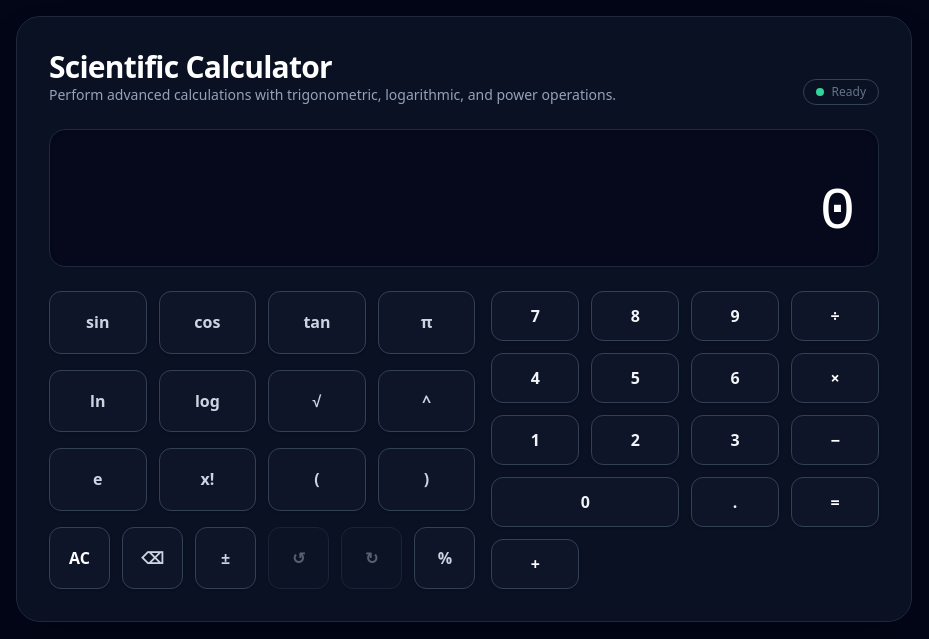
Scenario: Calculator E2E › supports undo and redo of evaluated expressions
Click the button "1". click: (535, 440)
box: [491,415,579,465]
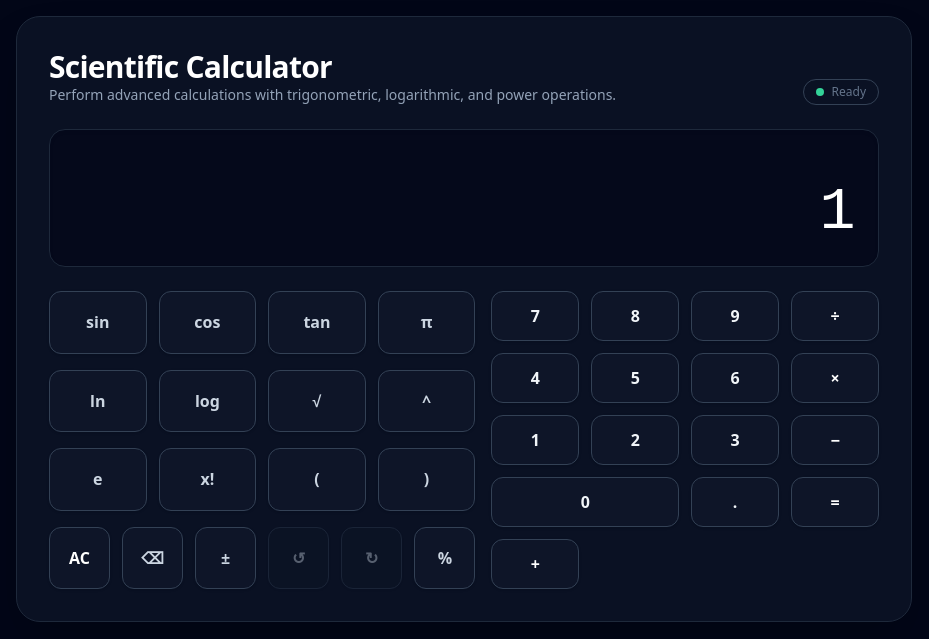
Click the button "+". click: (535, 564)
box: [491,539,579,589]
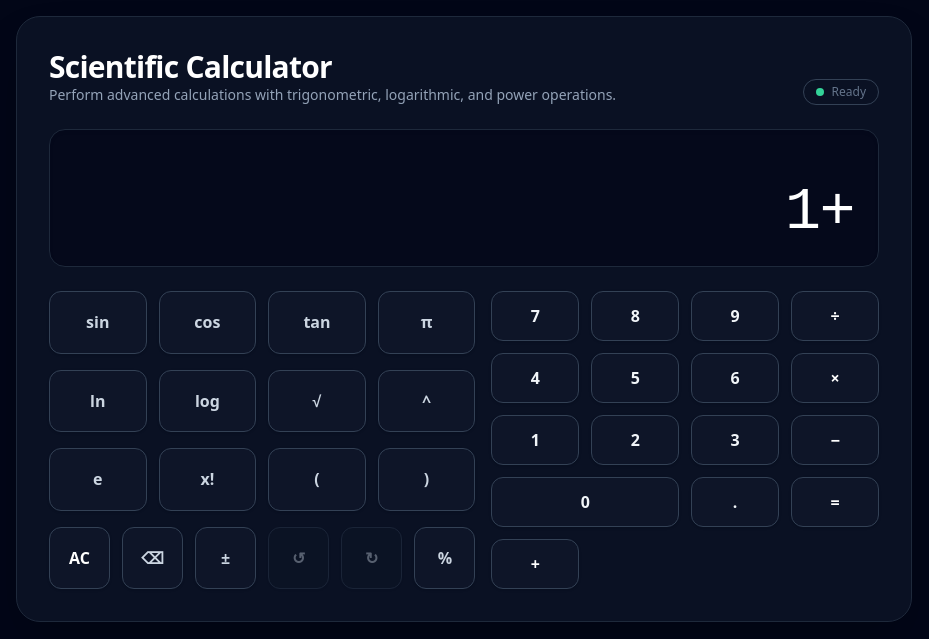
Click the button "2". click: (635, 440)
box: [591,415,679,465]
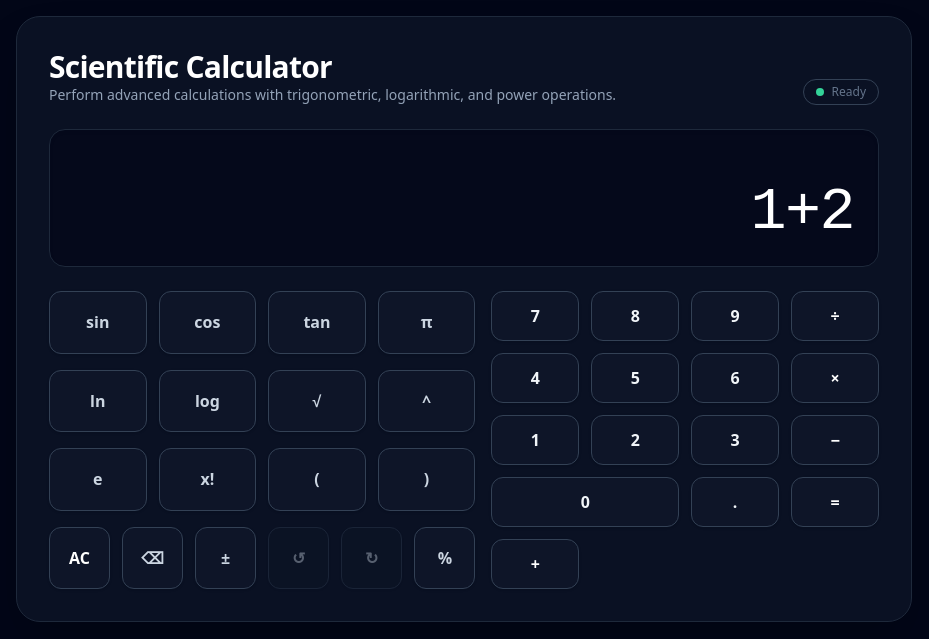
Expected: the button "↺" is disabled, [268,527,329,590]
Now the text "1+2" is shown, box [750,178,854,246]
Click the button "=". click: (835, 502)
box: [791,477,879,527]
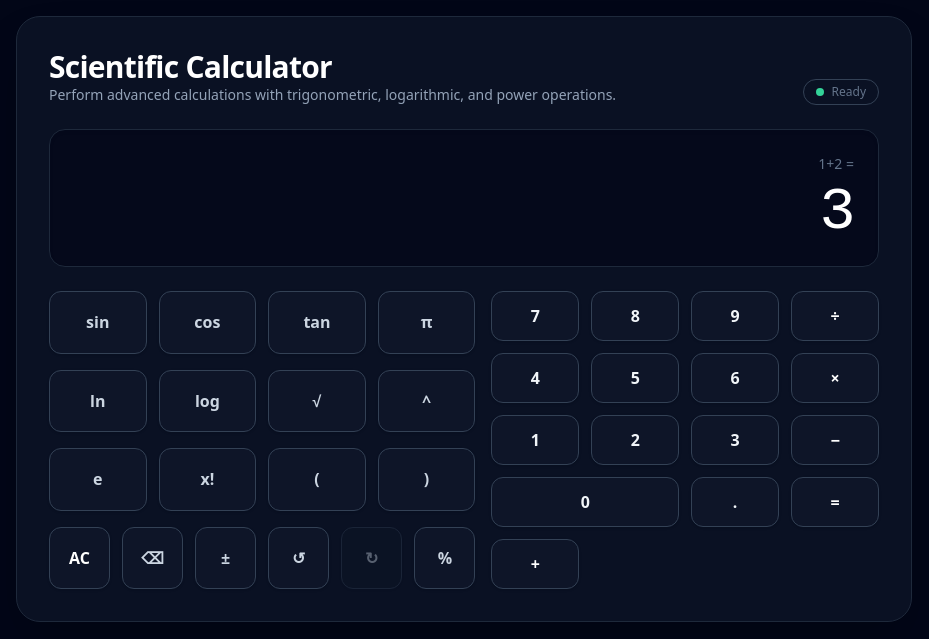
Expected: the text "↺" is enabled
Now the text "3" is shown, box [820,178,854,246]
Click the button "↺". click: (299, 559)
box: [268,527,329,590]
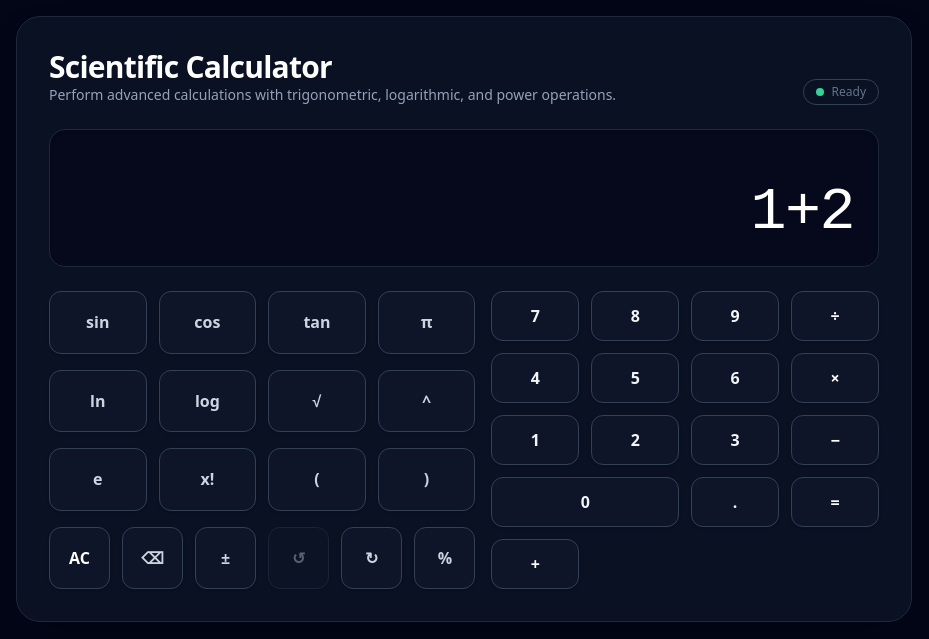
Expected: the text "↻" is enabled
Now the text "1+2" is shown, box [750,178,854,246]
Now the button "↺" is disabled, box [268,527,329,590]
Click the button "↻". click: (372, 559)
box: [341,527,402,590]
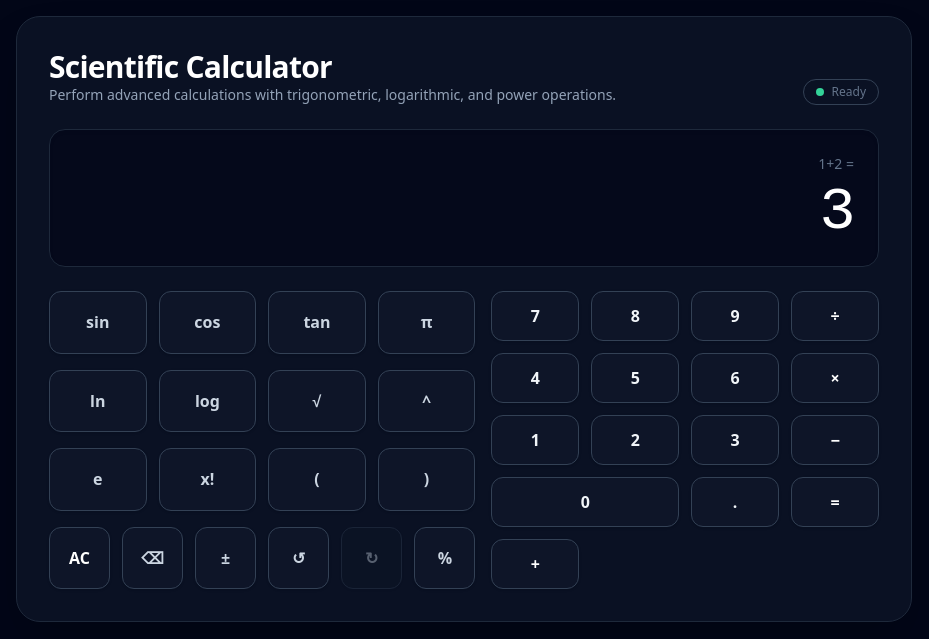
Now the text "3" is shown, box [820,178,854,246]
